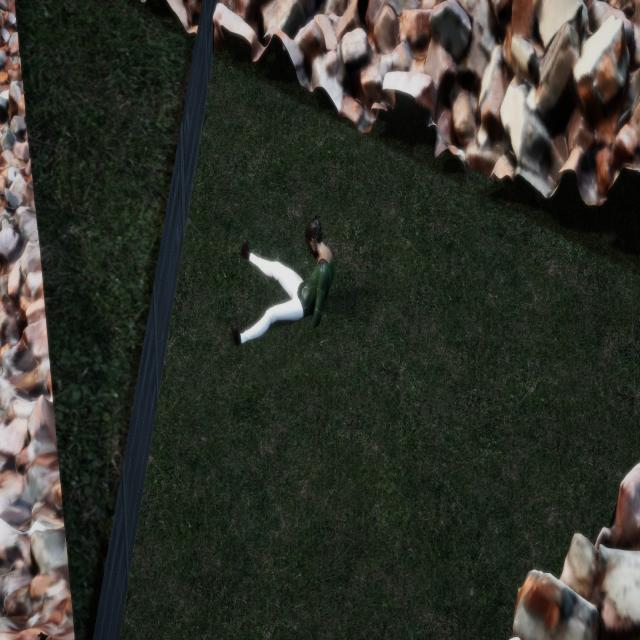Human: (225, 197, 342, 371)
